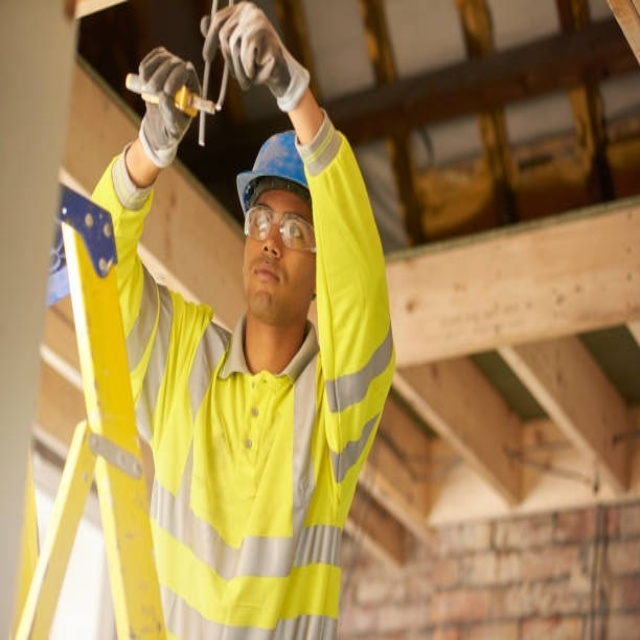Gafas: (243, 203, 317, 254)
Guantes: (207, 0, 309, 109), (129, 47, 203, 166)
Sin_mascara: (250, 257, 287, 306)
